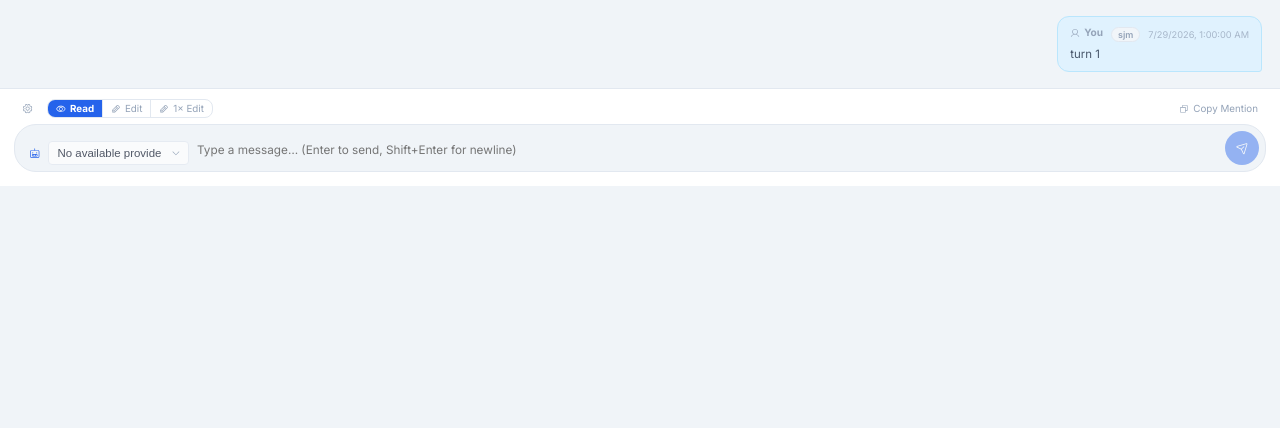
ConversationView optimistic send › moves a successful retry to server seq order without duplicating a prior SSE turn
The width and height of the screenshot is (1280, 428).
Type "failed A" into the text box with placeholder "Type a message… (Enter to send, Shift+Enter for newline)".
click(707, 151); type("failed A")  # box [197,137,1217,165]
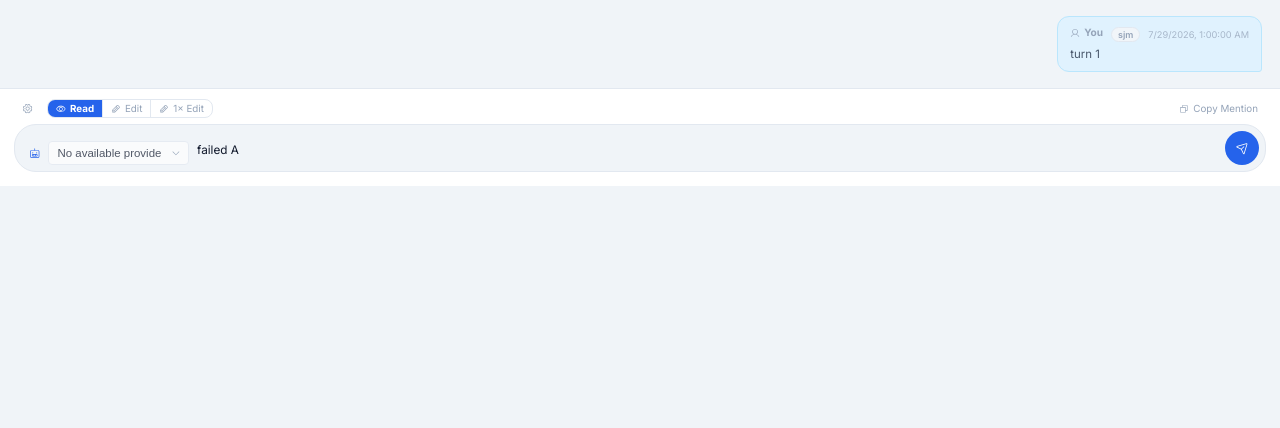
Submit the form, box [0,88,1279,186]
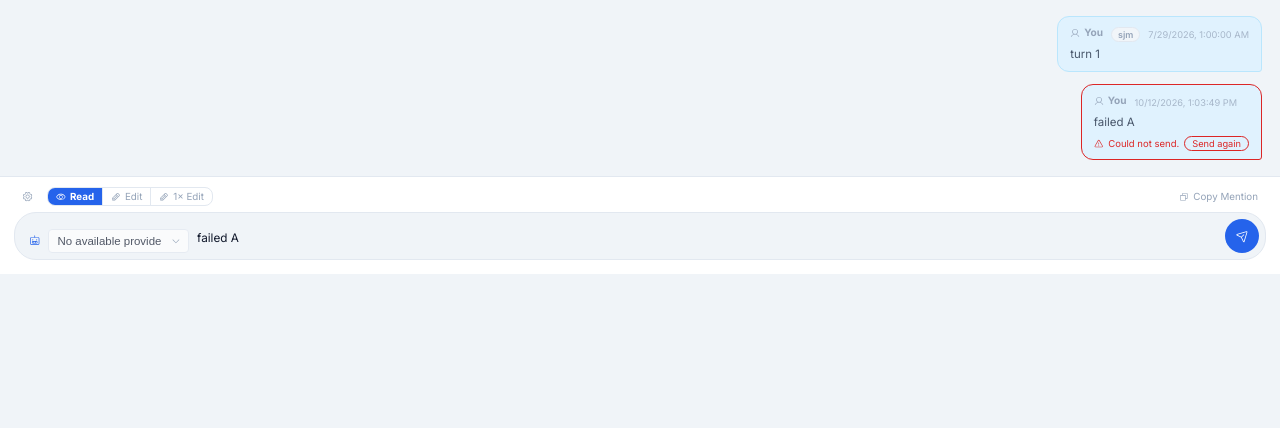
Replace the text in the text box with "sent B" at (707, 239), box [197,225,1217,253]
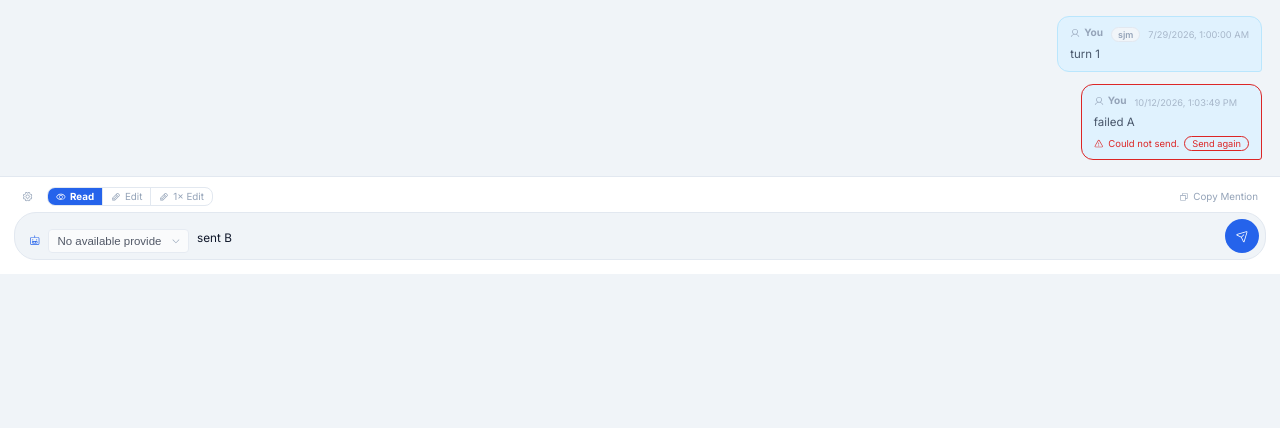
Submit the form, box [0,176,1279,274]
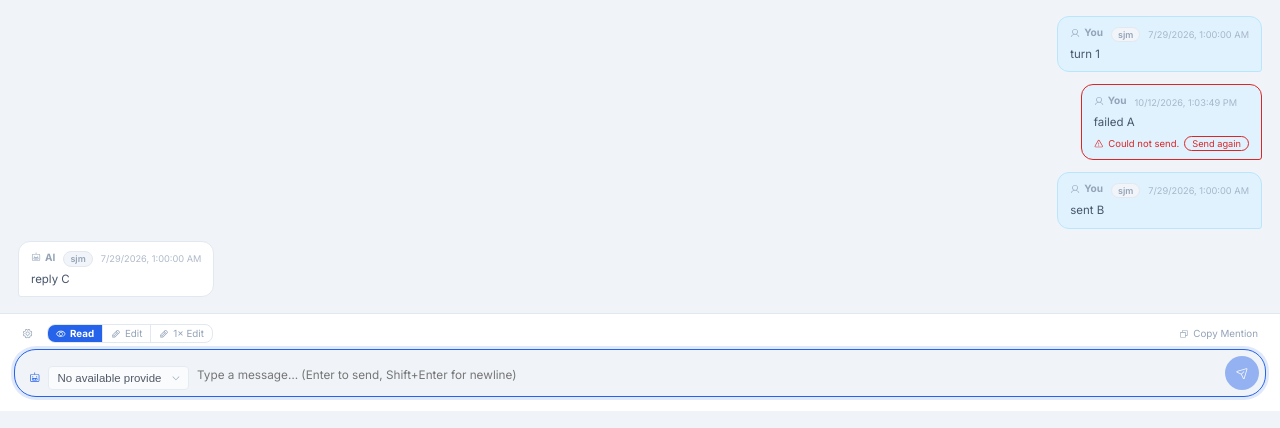
Click the button with class "conv-retry".
click(1217, 144)  # box [1184,136,1249,151]
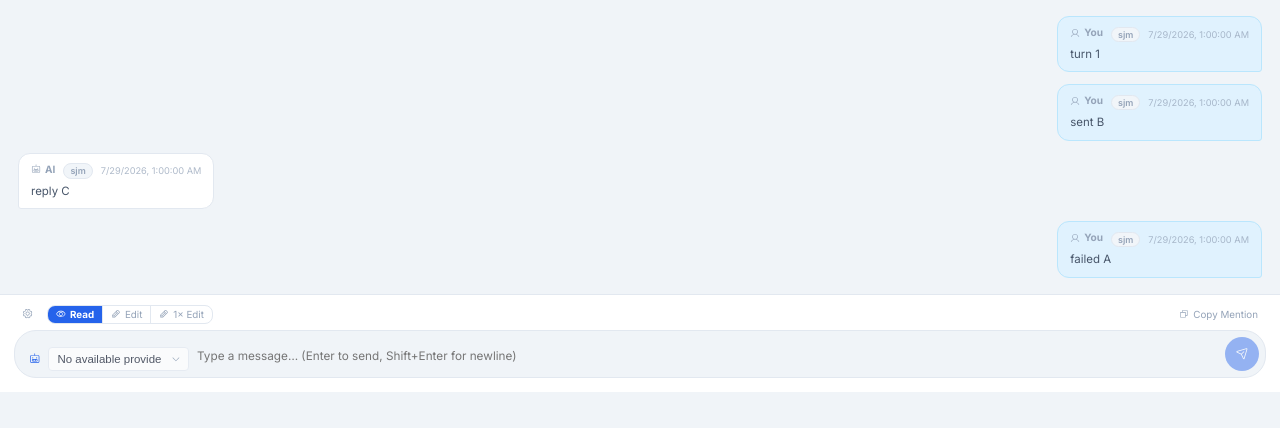
Now the number of elements with class "conv-row" is 4, box [1057,16,1262,72]; [1057,84,1262,141]; [18,153,214,209]; [1057,221,1262,278]
Now the elements with class "conv-body" read "turn 1", "sent B", "reply C", "failed A", in this order, box [1070,47,1100,61]; [1070,115,1104,129]; [31,184,70,198]; [1070,252,1111,266]
